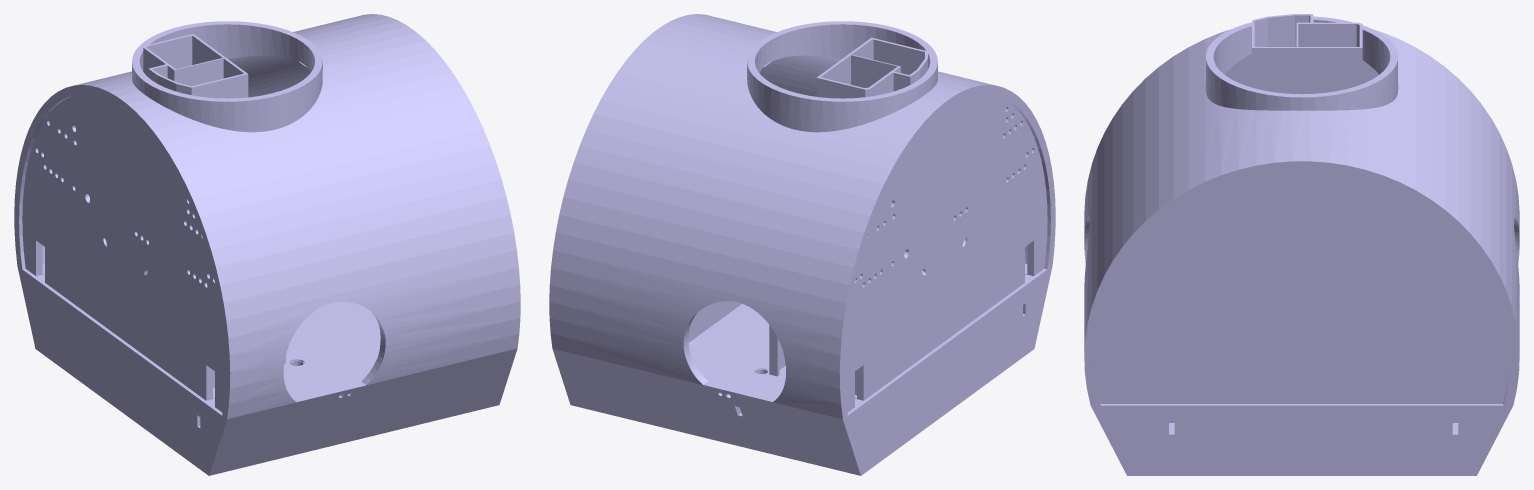
The picture shows the model from 3 angles, left to right: view 1: azimuth 30°, elevation 25°; view 2: azimuth 150°, elevation 25°; view 3: azimuth 270°, elevation 25°; orthographic projection.
Parts seen in each view (by area): view 1: null; view 2: null; view 3: null.
Boxes of the visible parts, x1,y1,x2,y2 form: null: [14, 14, 520, 475]; null: [549, 14, 1055, 475]; null: [1084, 14, 1519, 475].
Size of the model in its own units: 17.4 by 19 by 22.4.
